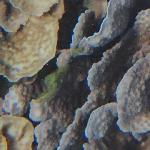dead: (13, 11, 142, 143)
